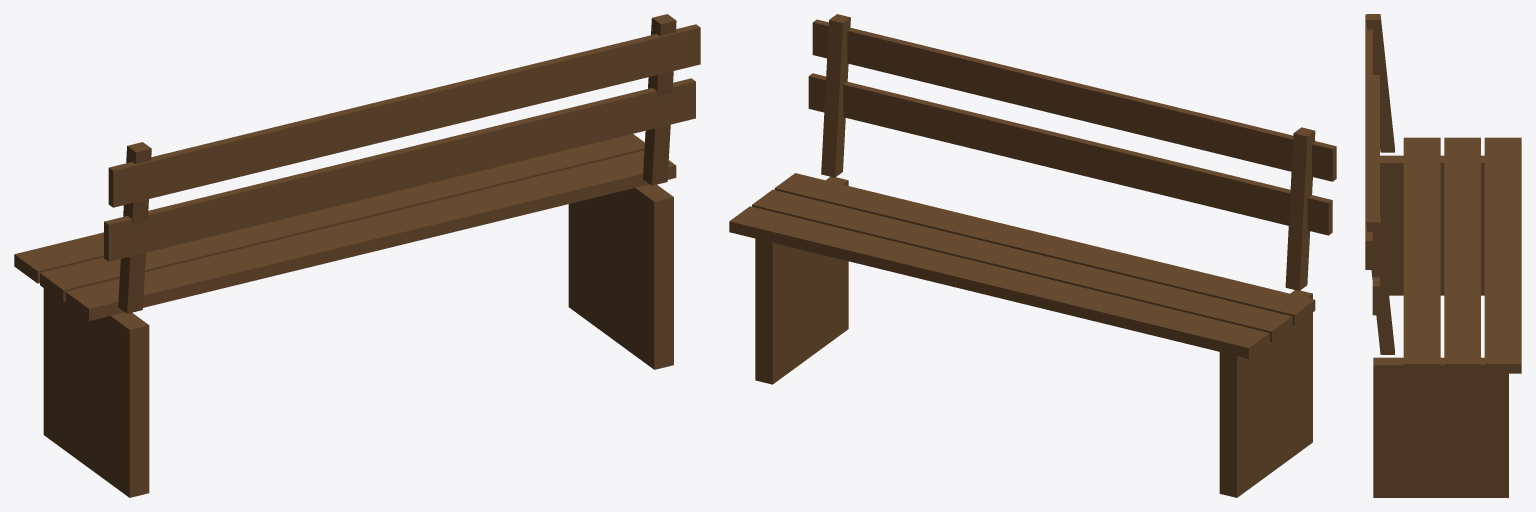
The model's file is parametric-bench-1st-pub.glb.
3 views of the same model, side by side, from view 1: azimuth 30°, elevation 25°; view 2: azimuth 150°, elevation 25°; view 3: azimuth 270°, elevation 25° (orthographic). The views are drawn at different scales.
Parts seen in each view (by area): view 1: parametric-bench-1st-pub; view 2: parametric-bench-1st-pub; view 3: parametric-bench-1st-pub.
Boxes of the visible parts, left/top/right/bottom form: parametric-bench-1st-pub: left=14, top=14, right=700, bottom=497; parametric-bench-1st-pub: left=729, top=14, right=1336, bottom=497; parametric-bench-1st-pub: left=1365, top=14, right=1521, bottom=497.
Size of the model in its own units: 1.5 by 0.85 by 0.4374.
